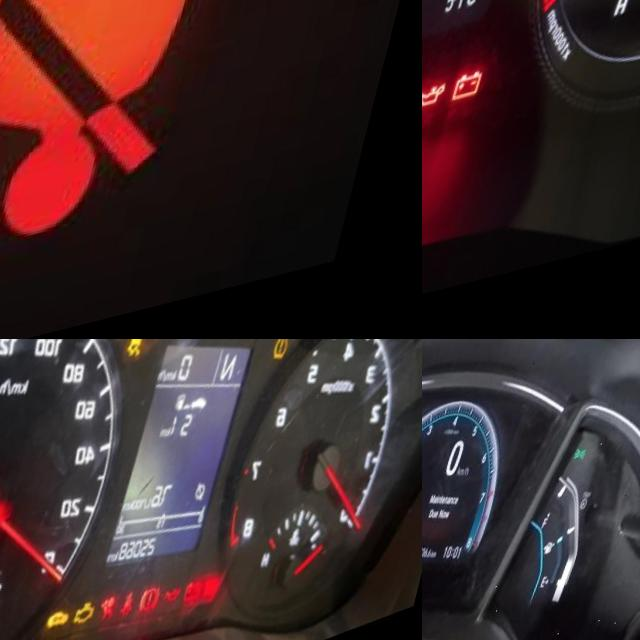Seat Belt: (0, 0, 312, 277)
security: (67, 616, 101, 640)
